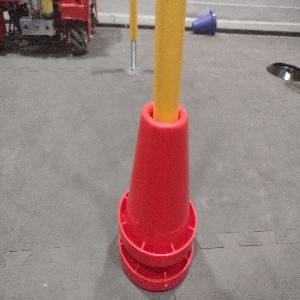Blue_1: (191, 8, 218, 38)
Red_2: (119, 100, 196, 291)
